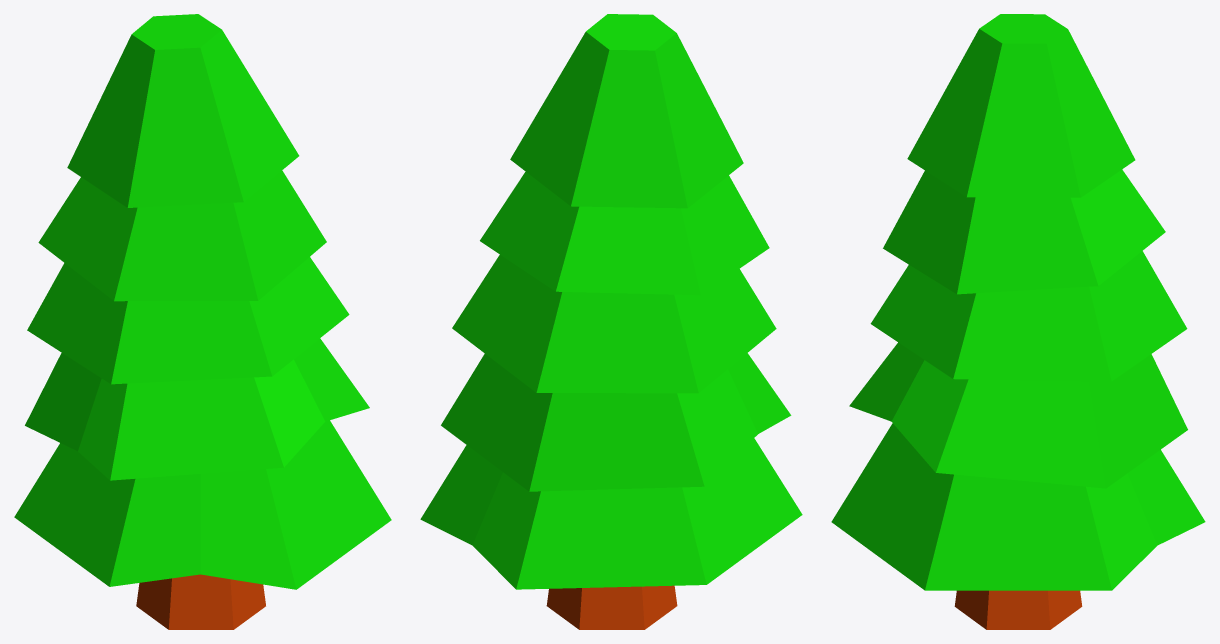
The model's file is Drzewo23.fbx.
3 views of the same model, side by side, from view 1: azimuth 30°, elevation 25°; view 2: azimuth 150°, elevation 25°; view 3: azimuth 270°, elevation 25° (orthographic). The views are drawn at different scales.
Parts seen in each view (by area): view 1: Walec.001, Walec.005, Walec.002, Walec.004, Walec.003, Walec; view 2: Walec.001, Walec.005, Walec.002, Walec.003, Walec.004, Walec; view 3: Walec.001, Walec.002, Walec.005, Walec.003, Walec.004, Walec.
Boxes of the visible parts, x1,y1,x2,y2 form: Walec.001: [14, 420, 391, 589]; Walec.005: [67, 14, 299, 207]; Walec.002: [25, 338, 369, 480]; Walec.004: [38, 170, 326, 301]; Walec.003: [27, 257, 349, 384]; Walec: [136, 574, 265, 629]; Walec.001: [420, 438, 802, 589]; Walec.005: [510, 14, 743, 208]; Walec.002: [441, 353, 791, 491]; Walec.003: [452, 255, 776, 393]; Walec.004: [480, 171, 769, 295]; Walec: [546, 585, 677, 629]; Walec.001: [831, 423, 1205, 590]; Walec.002: [849, 342, 1187, 488]; Walec.005: [907, 14, 1135, 197]; Walec.003: [870, 251, 1187, 381]; Walec.004: [883, 169, 1165, 294]; Walec: [954, 590, 1082, 629].
Bounding box in the file's own units: 316 × 618 × 368.
